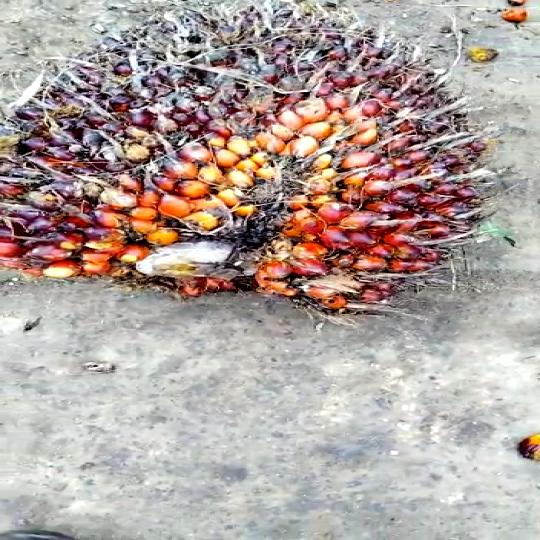masak: (0, 0, 500, 325)
